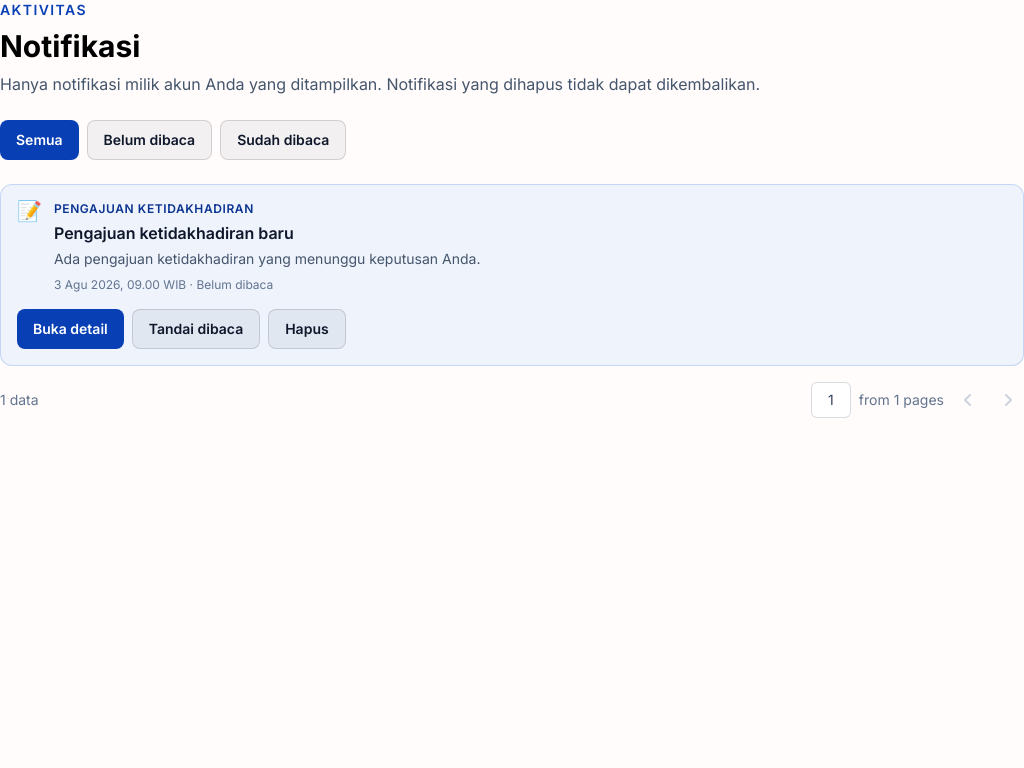
it: NotificationsPage › cancelling the dialog leaves the notification untouched
The width and height of the screenshot is (1024, 768).
Click the button "Hapus" at [307, 329], box x1=268 y1=309 x2=346 y2=349
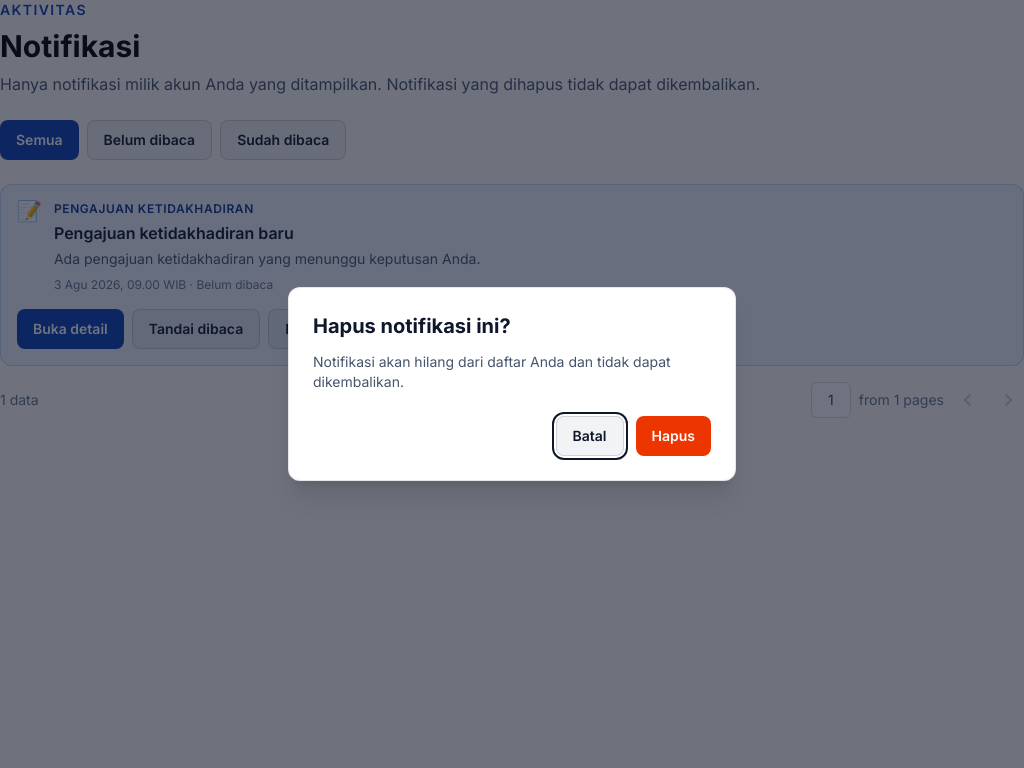
Click the button "Batal" at [590, 436], box x1=556 y1=416 x2=624 y2=456
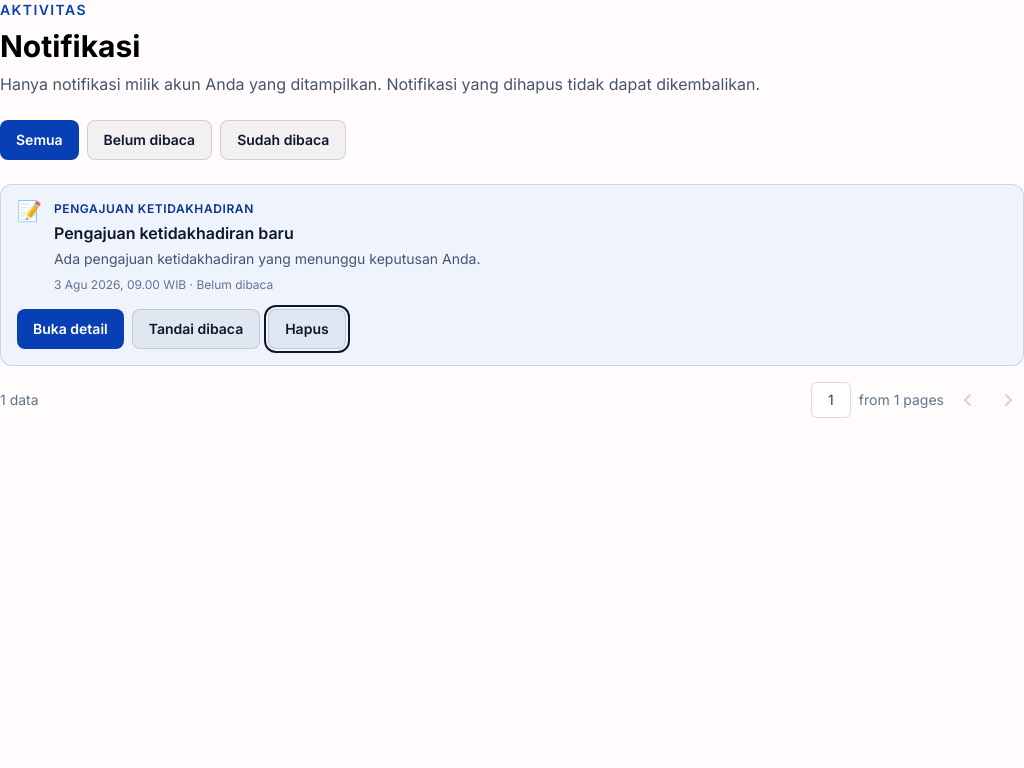
Expected: the dialog is gone
